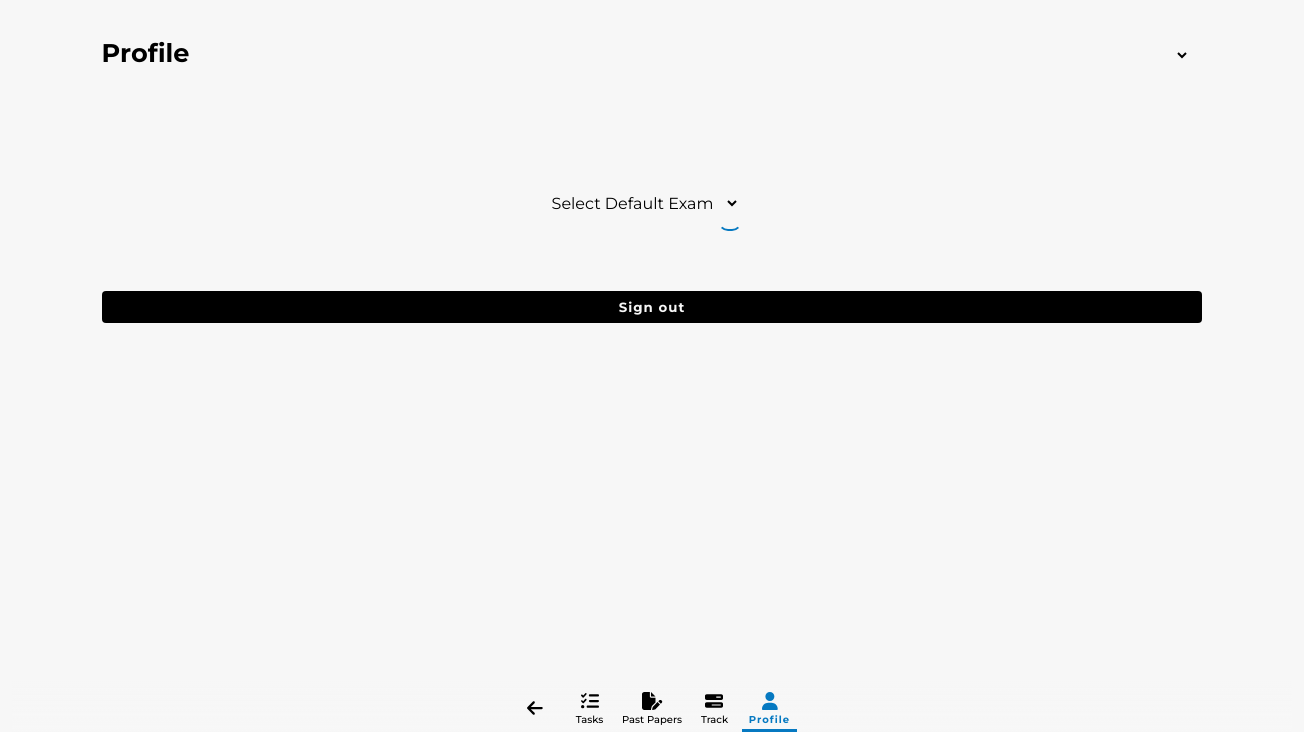
a failed sign-out says so and keeps the user signed in
Click the button "Sign out" at point(652, 307), box [102, 291, 1202, 323]
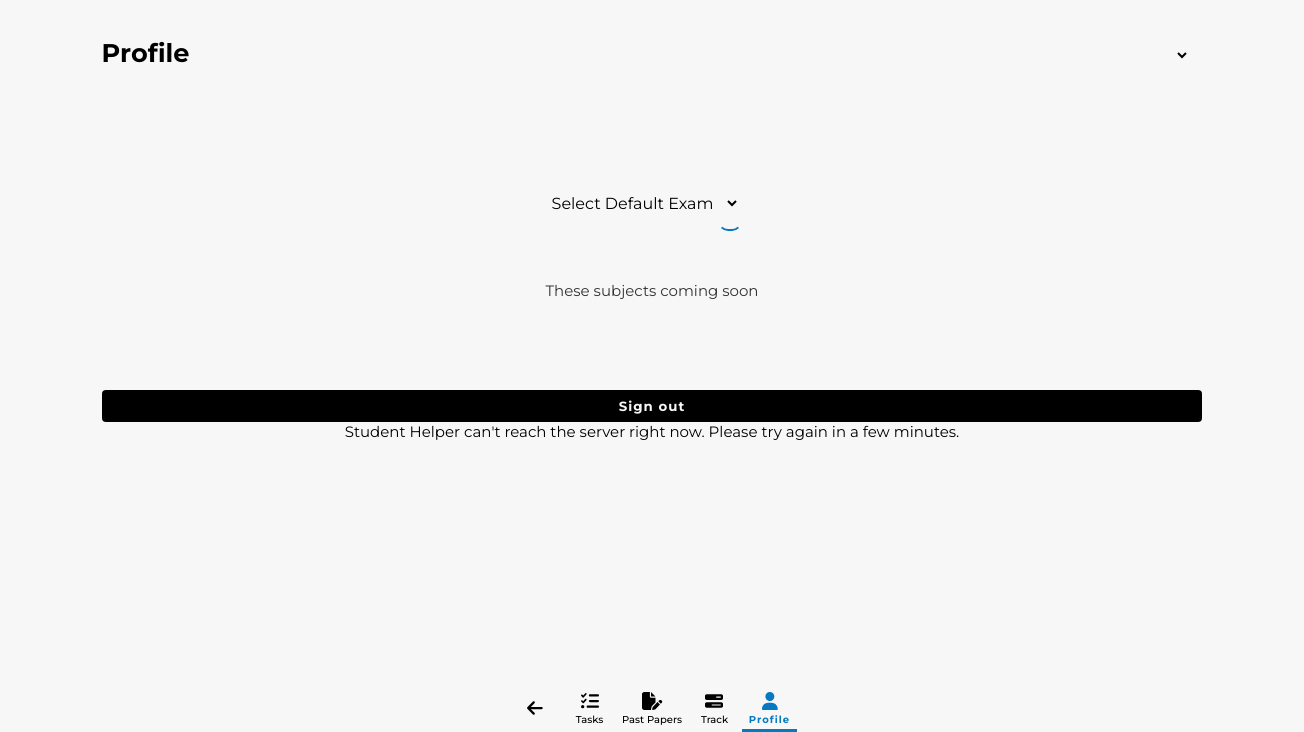
Expected: the button "Sign out" is shown, [102, 390, 1202, 422]
Now the 2nd message shows "can't reach the server", box [345, 422, 959, 441]
